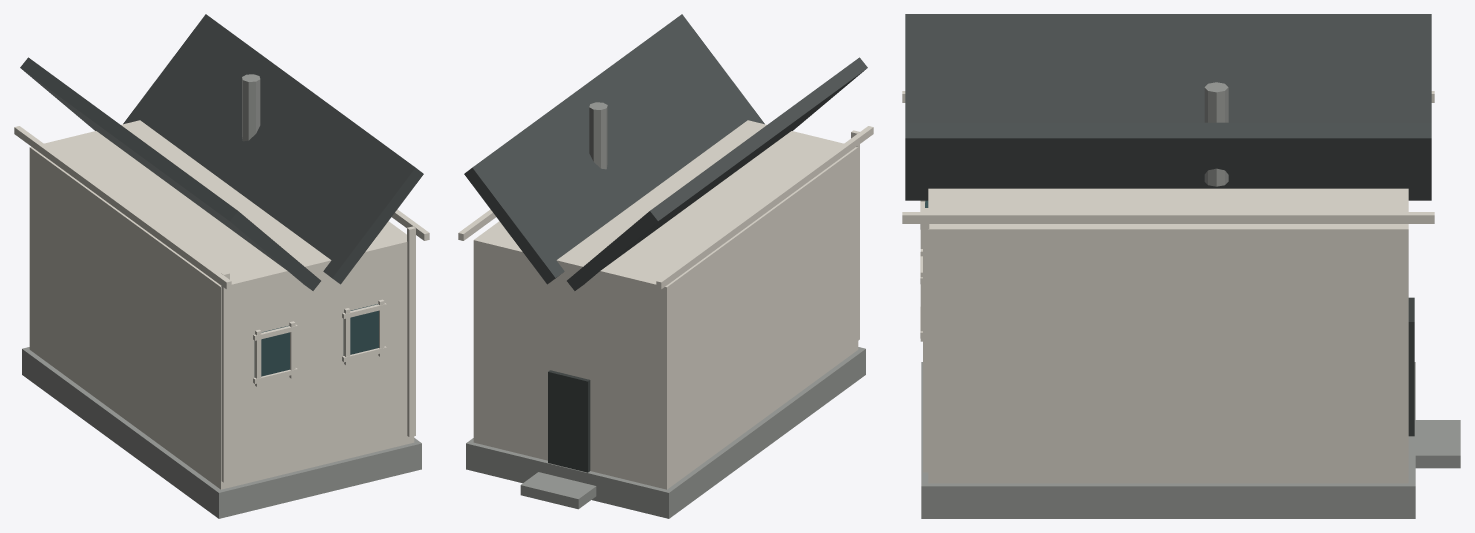
File: norway-house-white-dark_lod0.glb
3 renders of one model, left to right at view 1: azimuth 30°, elevation 25°; view 2: azimuth 150°, elevation 25°; view 3: azimuth 270°, elevation 25°, orthographic. The views are drawn at different scales.
Parts seen in each view (by area): view 1: RF_House_Walls, RF_House_RoofB, RF_House_Foundation, RF_House_RoofA, RF_House_Fascia, RF_House_Corner.001, RF_House_Corner, RF_House_Chimney, RF_House_WindowRecess.001, RF_House_WindowRecess; view 2: RF_House_Walls, RF_House_RoofB, RF_House_Foundation, RF_House_RoofA, RF_House_Door, RF_House_Fascia, RF_House_Threshold, RF_House_Chimney; view 3: RF_House_Walls, RF_House_RoofA, RF_House_RoofB, RF_House_Foundation, RF_House_Fascia.001, RF_House_Threshold, RF_House_Corner.001, RF_House_Chimney, RF_House_Door.
Part boxes in pixels (x1=…): RF_House_Walls: x1=29, y1=120, x2=414, y2=489; RF_House_RoofB: x1=123, y1=14, x2=423, y2=284; RF_House_Foundation: x1=22, y1=347, x2=421, y2=518; RF_House_RoofA: x1=20, y1=57, x2=320, y2=290; RF_House_Fascia: x1=14, y1=126, x2=231, y2=289; RF_House_Corner.001: x1=407, y1=226, x2=415, y2=437; RF_House_Corner: x1=221, y1=271, x2=229, y2=482; RF_House_Chimney: x1=242, y1=74, x2=260, y2=141; RF_House_WindowRecess.001: x1=343, y1=304, x2=378, y2=355; RF_House_WindowRecess: x1=254, y1=325, x2=289, y2=377; RF_House_Walls: x1=473, y1=120, x2=858, y2=489; RF_House_RoofB: x1=464, y1=14, x2=764, y2=284; RF_House_Foundation: x1=466, y1=347, x2=865, y2=518; RF_House_RoofA: x1=567, y1=57, x2=867, y2=290; RF_House_Door: x1=548, y1=370, x2=590, y2=472; RF_House_Fascia: x1=656, y1=126, x2=873, y2=289; RF_House_Threshold: x1=520, y1=472, x2=596, y2=509; RF_House_Chimney: x1=589, y1=102, x2=607, y2=169; RF_House_Walls: x1=928, y1=188, x2=1408, y2=483; RF_House_RoofA: x1=905, y1=14, x2=1431, y2=122; RF_House_RoofB: x1=905, y1=122, x2=1431, y2=200; RF_House_Foundation: x1=921, y1=362, x2=1415, y2=518; RF_House_Fascia.001: x1=902, y1=212, x2=1434, y2=223; RF_House_Threshold: x1=1415, y1=420, x2=1460, y2=468; RF_House_Corner.001: x1=923, y1=208, x2=929, y2=472; RF_House_Chimney: x1=1204, y1=82, x2=1228, y2=186; RF_House_Door: x1=1408, y1=297, x2=1414, y2=436.
Bounding box in the file's own units: 7.35 × 11 × 13.95.
